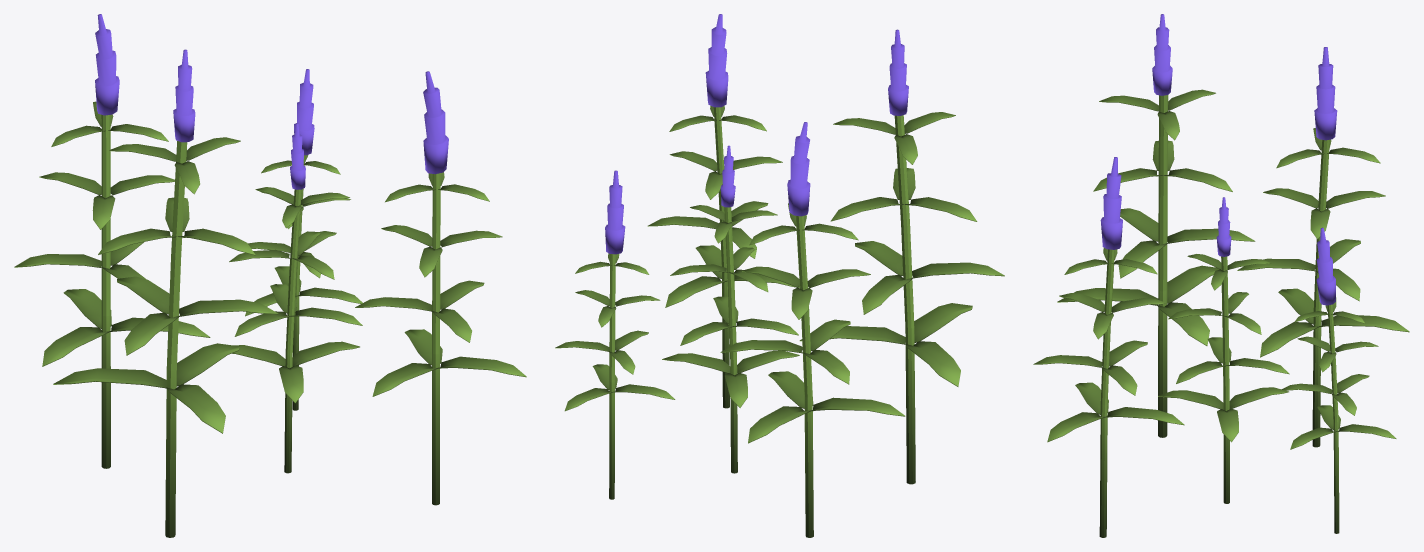
File: rantakukka_kasvanut.fbx
3 views of the same model, side by side, from view 1: azimuth 30°, elevation 25°; view 2: azimuth 150°, elevation 25°; view 3: azimuth 270°, elevation 25° (orthographic). The views are drawn at different scales.
Visible parts, largest first — view 1: rantakukka_kasvanut; view 2: rantakukka_kasvanut; view 3: rantakukka_kasvanut.
Part boxes in pixels (<box>): rantakukka_kasvanut: <box>14,14,526,537</box>; rantakukka_kasvanut: <box>555,14,1004,537</box>; rantakukka_kasvanut: <box>1033,14,1409,537</box>.
Size of the model in its own units: 2.11 by 2.64 by 2.2.
